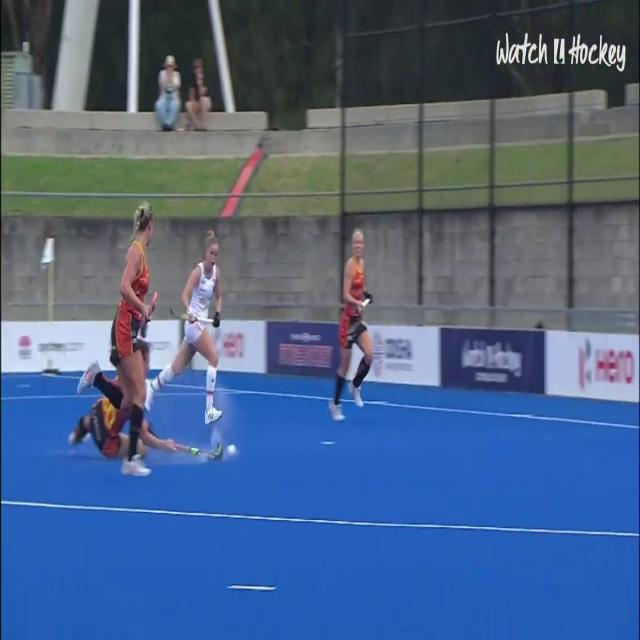ball: (221, 425, 244, 466)
